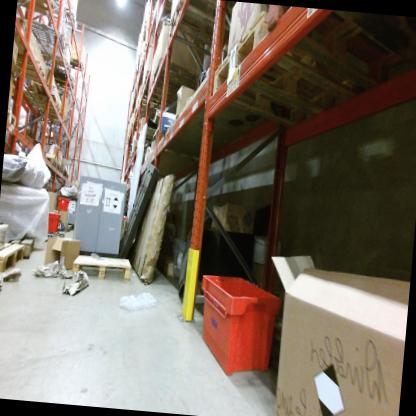pallet: (200, 4, 402, 150), (257, 5, 416, 90), (166, 0, 246, 61), (147, 55, 205, 98), (71, 251, 136, 281), (11, 88, 67, 120), (134, 98, 187, 126), (15, 54, 51, 91), (32, 46, 76, 73), (17, 0, 60, 27), (0, 239, 27, 278), (3, 236, 36, 267), (49, 71, 78, 94), (26, 114, 67, 128), (63, 54, 87, 73), (41, 228, 67, 242), (7, 107, 22, 131), (39, 148, 58, 161), (44, 156, 58, 170), (64, 225, 74, 237), (53, 162, 62, 173), (60, 169, 68, 178), (67, 173, 70, 180)
small_load_carrier: (190, 256, 289, 383), (40, 211, 60, 235), (56, 195, 71, 214)
